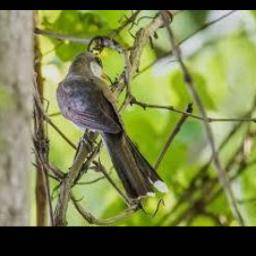Cuckoo: (56, 52, 170, 202)
